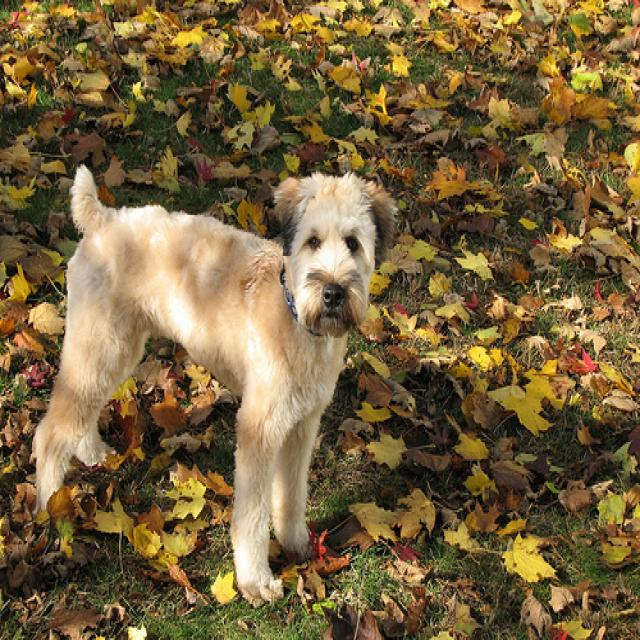dog-wheaten_terrier: (29, 157, 401, 602)
